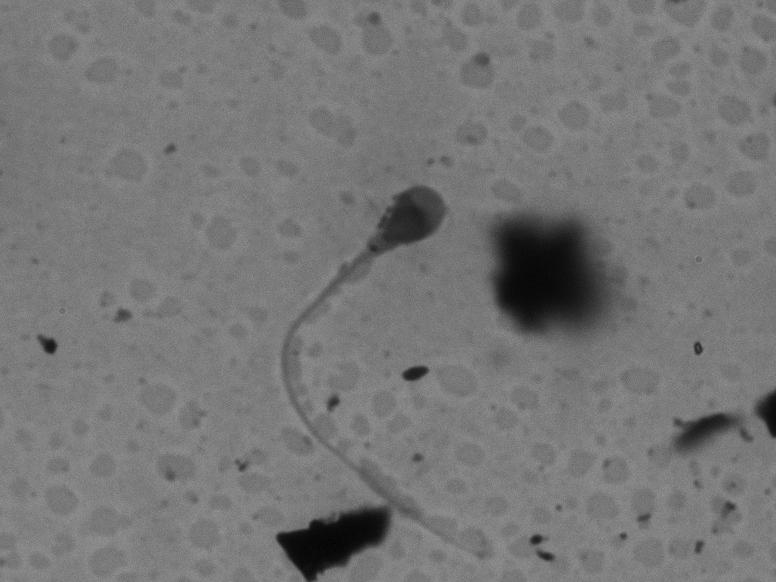Abnormal: (232, 164, 510, 571)
